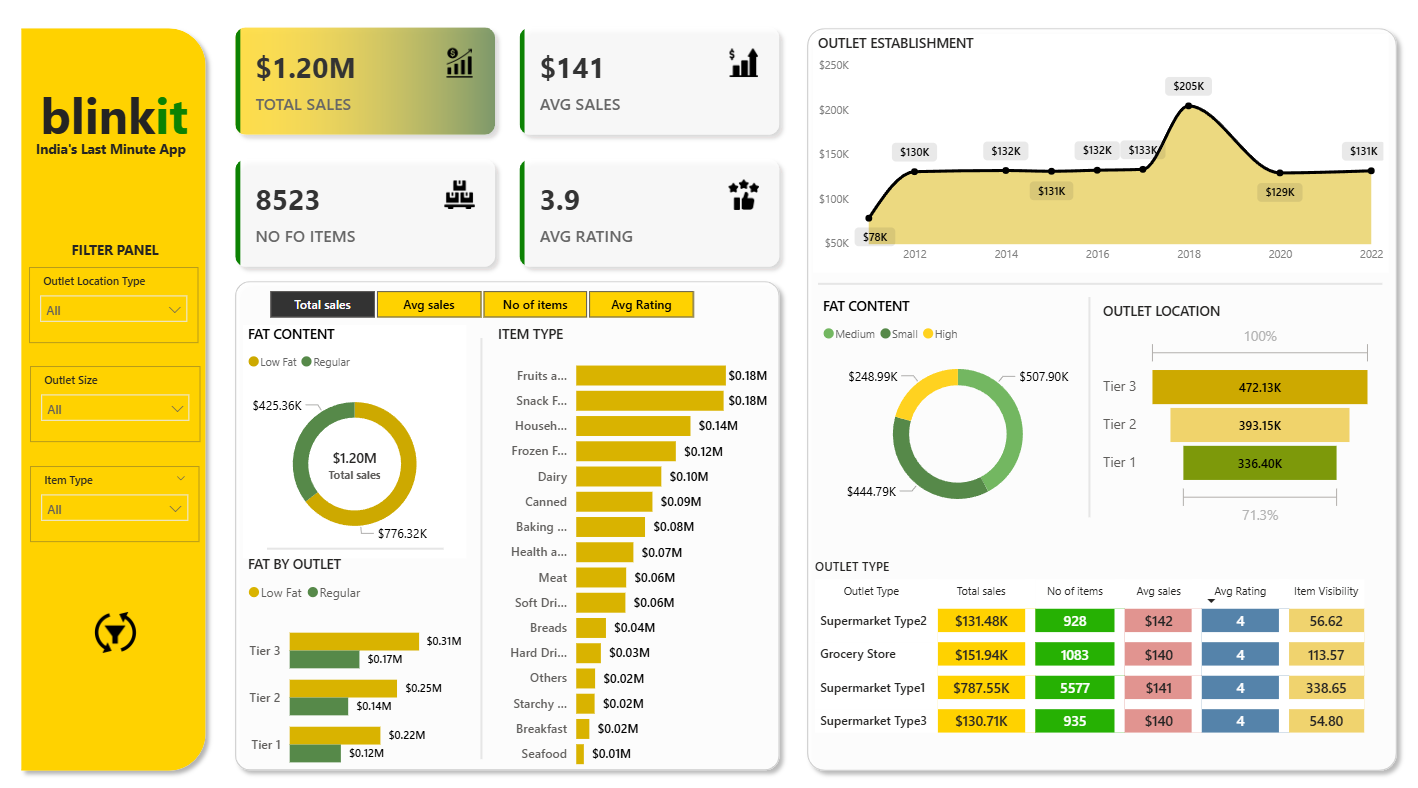

The page's visual inventory and layout, read from the dashboard file:
{"tool":"powerbi","page":{"name":"Page 1","canvas":[1400,800],"ordinal":0},"visuals":[{"type":"shape","box":[11.7,33.1,199.7,749.7],"z":0},{"type":"textbox","box":[6.4,89.7,211.4,85.4],"z":1000},{"type":"textbox","box":[11.7,147.4,194.4,36.3],"z":2000},{"type":"cardVisual","fields":{"Data":["BlinkIT Grocery Data.Total sales","BlinkIT Grocery Data.Avg sales","BlinkIT Grocery Data.No of items","BlinkIT Grocery Data.Avg Rating"]},"box":[214.9,24.5,570.2,270.2],"z":3000},{"type":"shape","box":[222.3,283,554.3,500],"z":4000},{"type":"donutChart","title":"FAT CONTENT","fields":{"Y":["BlinkIT Grocery Data.Total sales"],"Category":["BlinkIT Grocery Data.Item Fat Content"],"Series":["BlinkIT Grocery Data.Item Fat Content"]},"box":[239.2,335.3,220,229.6],"z":5000},{"type":"slicer","fields":{"Values":["metrics.metrics"]},"box":[240.4,294.7,467,40.4],"z":6000},{"type":"cardVisual","fields":{"Data":["BlinkIT Grocery Data.Total sales"]},"box":[293.6,440.4,111.7,66],"z":7000},{"type":"clusteredBarChart","title":"FAT BY OUTLET","fields":{"Y":["BlinkIT Grocery Data.Total sales"],"Category":["BlinkIT Grocery Data.Outlet Location Type"],"Series":["BlinkIT Grocery Data.Item Fat Content"]},"box":[239.4,561.7,220.2,229.8],"z":8000},{"type":"shape","box":[262.8,545.7,174.5,19.1],"z":9000},{"type":"shape","box":[461.7,347.9,24.5,414.9],"z":10000},{"type":"barChart","title":"ITEM TYPE","fields":{"Y":["BlinkIT Grocery Data.Total sales"],"Category":["BlinkIT Grocery Data.Item Type"]},"box":[486.2,335.1,275.5,447.9],"z":11000},{"type":"shape","box":[786.2,33.5,599,749.8],"z":12000},{"type":"lineChart","title":"OUTLET ESTABLISHMENT","fields":{"Category":["BlinkIT Grocery Data.Outlet Establishment Year"],"Y":["BlinkIT Grocery Data.Total sales"]},"box":[801.1,47.9,567,235.1],"z":13000},{"type":"shape","box":[806.4,276.6,556.4,35.1],"z":14000},{"type":"donutChart","title":"FAT CONTENT","fields":{"Y":["BlinkIT Grocery Data.Total sales"],"Category":["BlinkIT Grocery Data.Outlet Size"]},"box":[806.4,307.4,275.5,225.5],"z":15000},{"type":"shape","box":[1060.6,307.4,24.5,217],"z":16000},{"type":"funnel","title":"OUTLET LOCATION","fields":{"Y":["Sum(BlinkIT Grocery Data.Sales)"],"Category":["BlinkIT Grocery Data.Outlet Location Type"]},"box":[1081.8,311.8,275.5,225.3],"z":17000},{"type":"pivotTable","title":"OUTLET TYPE","fields":{"Rows":["BlinkIT Grocery Data.Outlet Type"],"Values":["BlinkIT Grocery Data.Total sales","BlinkIT Grocery Data.No of items","BlinkIT Grocery Data.Avg sales","BlinkIT Grocery Data.Avg Rating","Sum(BlinkIT Grocery Data.Item Visibility)"]},"box":[797.7,564.9,574.5,191.2],"z":18000},{"type":"slicer","fields":{"Values":["BlinkIT Grocery Data.Outlet Location Type"]},"box":[28.8,277.7,166.6,74.8],"z":19000},{"type":"slicer","fields":{"Values":["BlinkIT Grocery Data.Outlet Size"]},"box":[29.6,375.4,168.5,74.9],"z":20000},{"type":"slicer","fields":{"Values":["BlinkIT Grocery Data.Item Type"]},"box":[29.6,473.9,166.5,74.9],"z":21000},{"type":"textbox","box":[30.5,247.3,165.5,29.6],"z":22000},{"type":"image","box":[84.7,608.9,58.1,58.1],"z":22001}]}

Visuals, with their boxes in screenshot pixels (x1, y1, x2, y2), scaled from the page's 1400x800 canvas onto the 1418x788 screenshot:
shape: box=[12, 33, 214, 771]
textbox: box=[6, 88, 221, 172]
textbox: box=[12, 145, 209, 181]
cardVisual - BlinkIT Grocery Data.Total sales x BlinkIT Grocery Data.Avg sales: box=[218, 24, 795, 290]
shape: box=[225, 279, 787, 771]
"FAT CONTENT" donutChart: box=[242, 330, 465, 556]
slicer - metrics.metrics: box=[243, 290, 716, 330]
cardVisual - BlinkIT Grocery Data.Total sales: box=[297, 434, 411, 499]
"FAT BY OUTLET" clusteredBarChart: box=[242, 553, 466, 780]
shape: box=[266, 538, 443, 556]
shape: box=[468, 343, 492, 751]
"ITEM TYPE" barChart: box=[492, 330, 771, 771]
shape: box=[796, 33, 1403, 772]
"OUTLET ESTABLISHMENT" lineChart: box=[811, 47, 1386, 279]
shape: box=[817, 272, 1380, 307]
"FAT CONTENT" donutChart: box=[817, 303, 1096, 525]
shape: box=[1074, 303, 1099, 517]
"OUTLET LOCATION" funnel: box=[1096, 307, 1375, 529]
"OUTLET TYPE" pivotTable: box=[808, 556, 1390, 745]
slicer - BlinkIT Grocery Data.Outlet Location Type: box=[29, 274, 198, 347]
slicer - BlinkIT Grocery Data.Outlet Size: box=[30, 370, 201, 444]
slicer - BlinkIT Grocery Data.Item Type: box=[30, 467, 199, 541]
textbox: box=[31, 244, 199, 273]
image: box=[86, 600, 145, 657]
